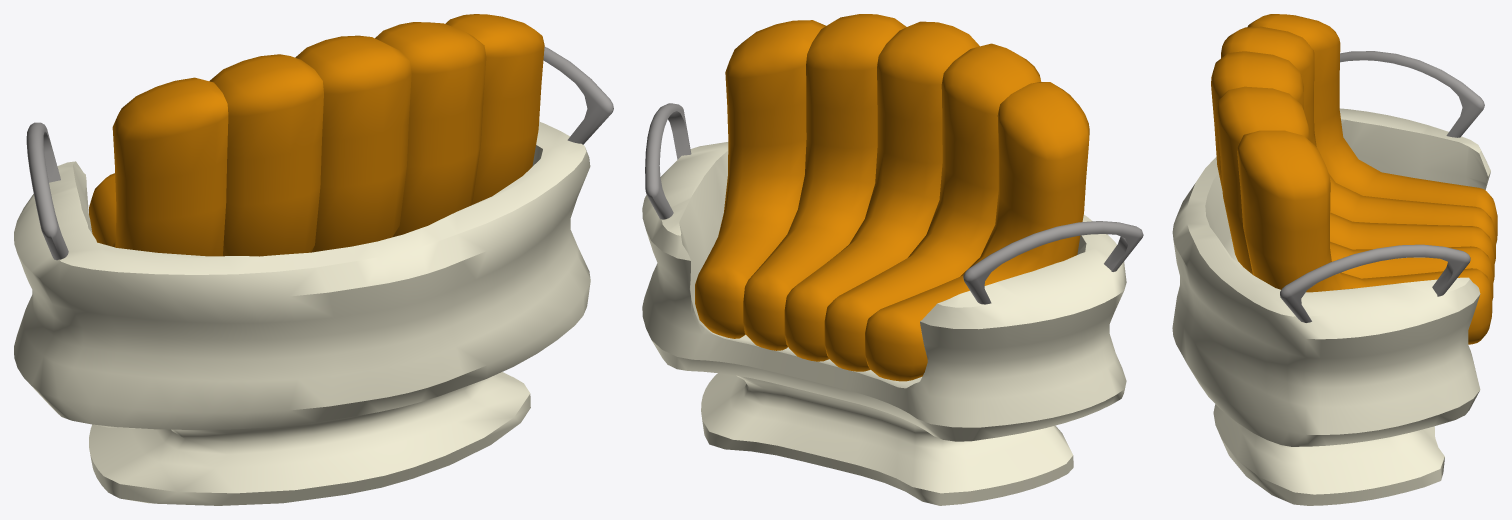
File: ArmChair.fbx
3 views of the same model, side by side, from view 1: azimuth 30°, elevation 25°; view 2: azimuth 150°, elevation 25°; view 3: azimuth 270°, elevation 25° (orthographic). The views are drawn at different scales.
Visible parts, largest first — view 1: Body, Cushions, Rails; view 2: Cushions, Body, Rails; view 3: Body, Cushions, Rails.
Part boxes in pixels (x1,y1,x2,y2): Body: (14, 121, 590, 505); Cushions: (89, 14, 544, 256); Rails: (26, 47, 613, 260); Cushions: (695, 14, 1089, 381); Body: (642, 142, 1126, 505); Rails: (645, 103, 1143, 304); Body: (1172, 108, 1490, 505); Cushions: (1211, 14, 1497, 344); Rails: (1280, 51, 1484, 322).
Bounding box in the file's own units: 8.12 × 6.06 × 4.88.
